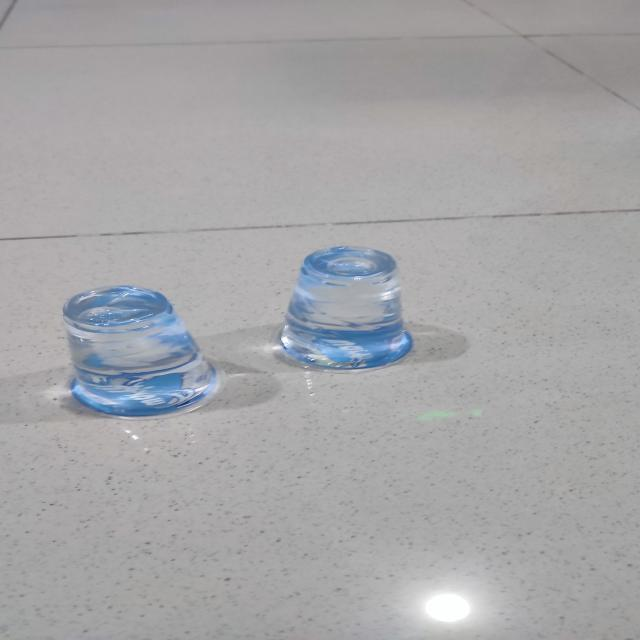air gelas: (254, 238, 428, 372), (60, 278, 217, 416)
